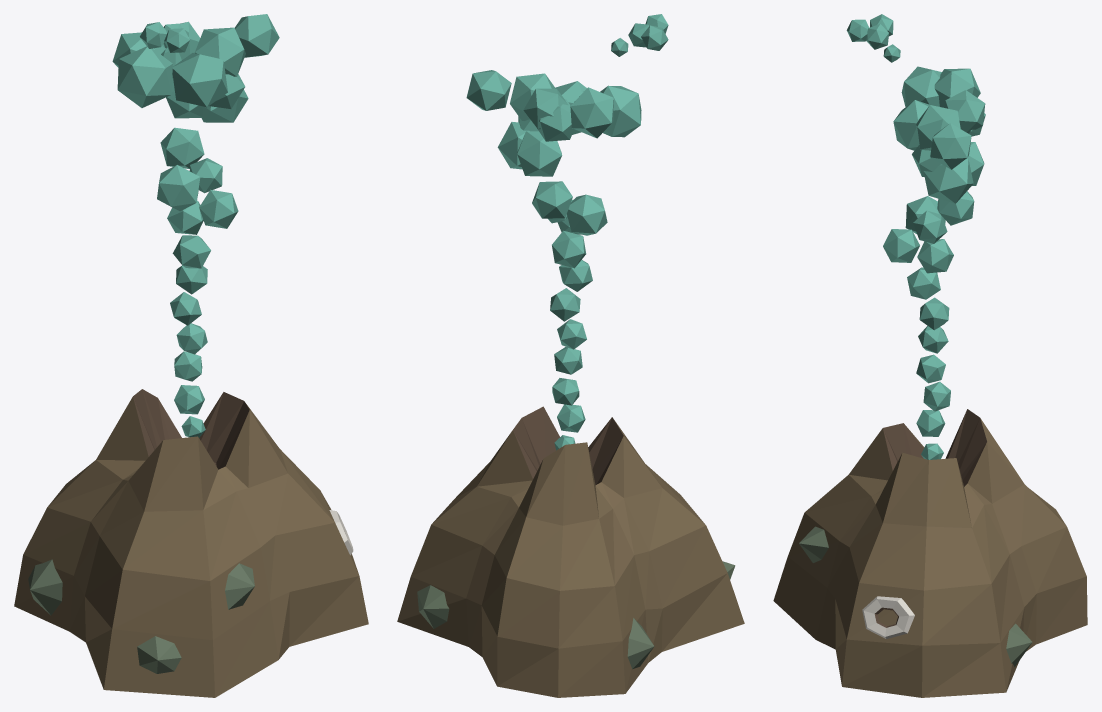
The model's file is reef_bubble_vent.glb.
The picture shows the model from 3 angles, left to right: view 1: azimuth 30°, elevation 25°; view 2: azimuth 150°, elevation 25°; view 3: azimuth 270°, elevation 25°; orthographic projection. The views are drawn at different scales.
Visible parts, largest first — view 1: ReefBubbleVent; view 2: ReefBubbleVent; view 3: ReefBubbleVent.
Part boxes in pixels (bbox=[...]): ReefBubbleVent: bbox=[14, 14, 368, 697]; ReefBubbleVent: bbox=[397, 14, 744, 697]; ReefBubbleVent: bbox=[773, 14, 1087, 697].
Size of the model in its own units: 0.7124 by 1.48 by 0.7222.
